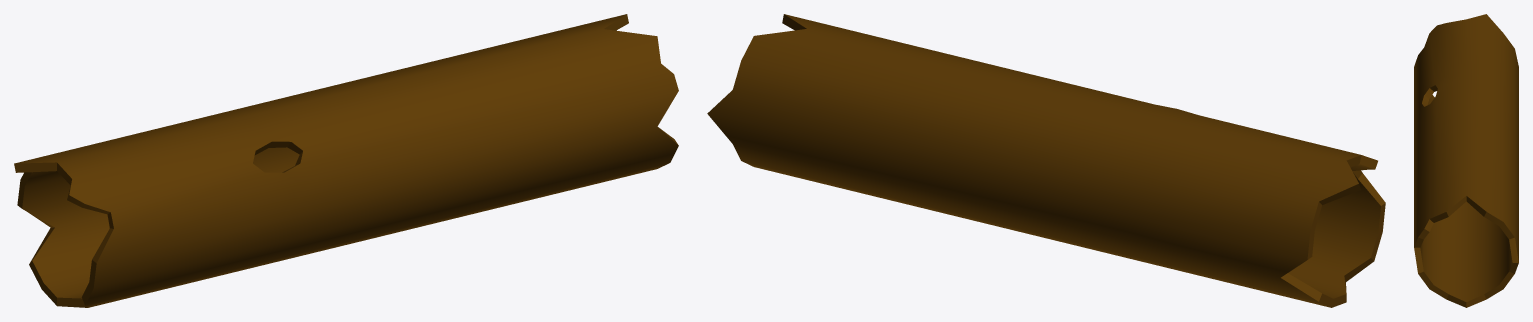
File: tronco.fbx
The picture shows the model from 3 angles, left to right: view 1: azimuth 30°, elevation 25°; view 2: azimuth 150°, elevation 25°; view 3: azimuth 270°, elevation 25°; orthographic projection. The views are drawn at different scales.
Visible parts, largest first — view 1: tronco; view 2: tronco; view 3: tronco.
Boxes of the visible parts, left/top/right/bottom form: tronco: left=14, top=14, right=678, bottom=307; tronco: left=707, top=14, right=1385, bottom=307; tronco: left=1414, top=14, right=1518, bottom=307.
Bounding box in the file's own units: 1985 × 429 × 429.
